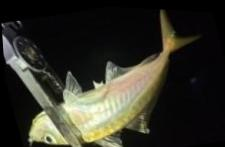fish: (25, 7, 200, 147)
